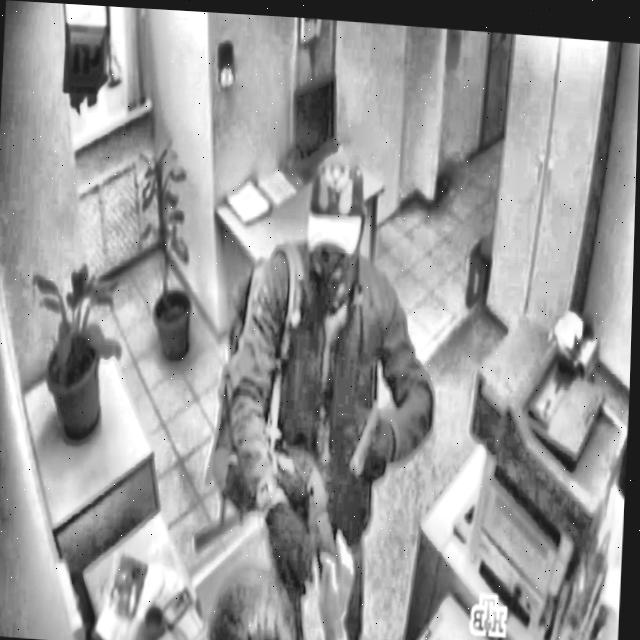robbery: (202, 123, 444, 640)
